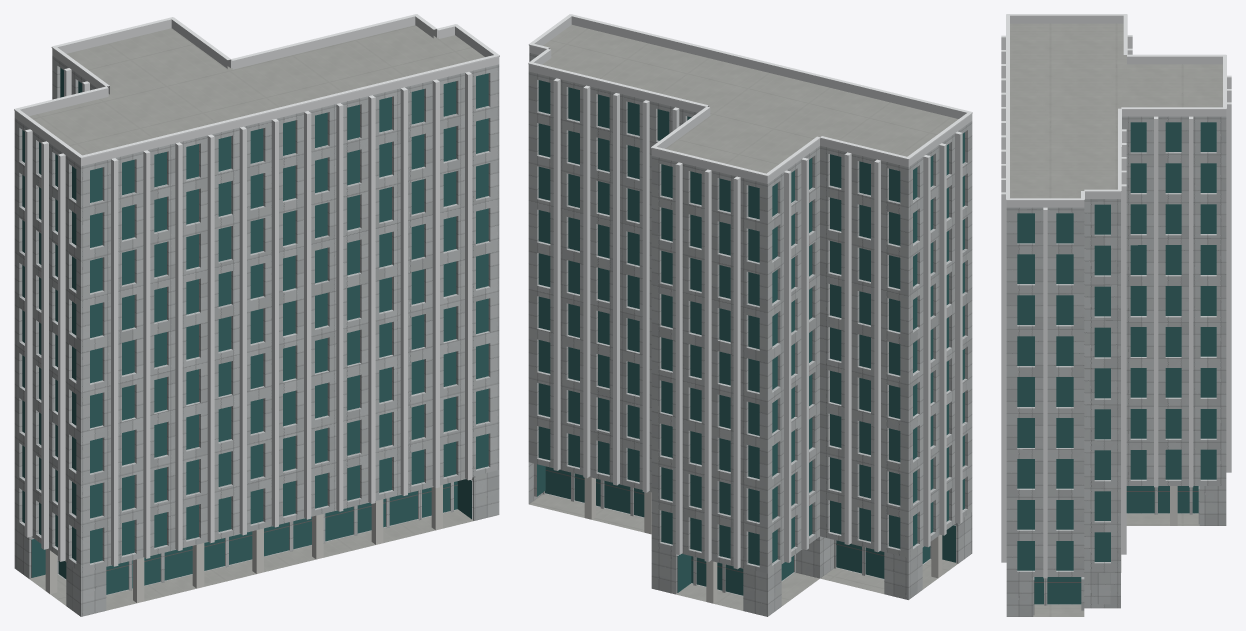
3 views of the same model, side by side, from view 1: azimuth 30°, elevation 25°; view 2: azimuth 150°, elevation 25°; view 3: azimuth 270°, elevation 25° (orthographic). The views are drawn at different scales.
Visible parts, largest first — view 1: jungWoonOh__wall, jungWoonOh__glass, jungWoonOh__trim, jungWoonOh__roof, jungWoonOh__parapet, jungWoonOh__column; view 2: jungWoonOh__wall, jungWoonOh__glass, jungWoonOh__trim, jungWoonOh__roof, jungWoonOh__parapet, jungWoonOh__column; view 3: jungWoonOh__wall, jungWoonOh__glass, jungWoonOh__roof, jungWoonOh__trim, jungWoonOh__parapet.
Boxes of the visible parts, left/top/right/bottom form: jungWoonOh__wall: left=14, top=56, right=499, bottom=616; jungWoonOh__glass: left=22, top=68, right=488, bottom=594; jungWoonOh__trim: left=14, top=14, right=499, bottom=566; jungWoonOh__roof: left=29, top=25, right=484, bottom=610; jungWoonOh__parapet: left=14, top=16, right=499, bottom=166; jungWoonOh__column: left=45, top=485, right=442, bottom=603; jungWoonOh__wall: left=528, top=53, right=972, bottom=616; jungWoonOh__glass: left=537, top=80, right=964, bottom=595; jungWoonOh__trim: left=528, top=14, right=972, bottom=569; jungWoonOh__roof: left=529, top=25, right=958, bottom=610; jungWoonOh__parapet: left=528, top=16, right=972, bottom=183; jungWoonOh__column: left=584, top=477, right=942, bottom=603; jungWoonOh__wall: left=1006, top=116, right=1226, bottom=616; jungWoonOh__glass: left=1017, top=122, right=1216, bottom=604; jungWoonOh__roof: left=1010, top=23, right=1222, bottom=616; jungWoonOh__trim: left=1001, top=14, right=1231, bottom=578; jungWoonOh__parapet: left=1006, top=15, right=1226, bottom=207.
Size of the model in its own units: 40.82 by 41.8 by 20.92.
Materials: 8 (2 with a texture image).
